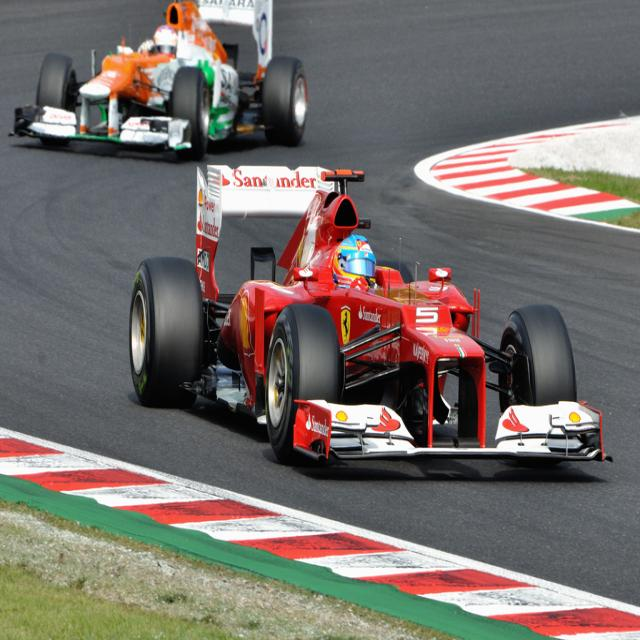car: (131, 171, 609, 459)
